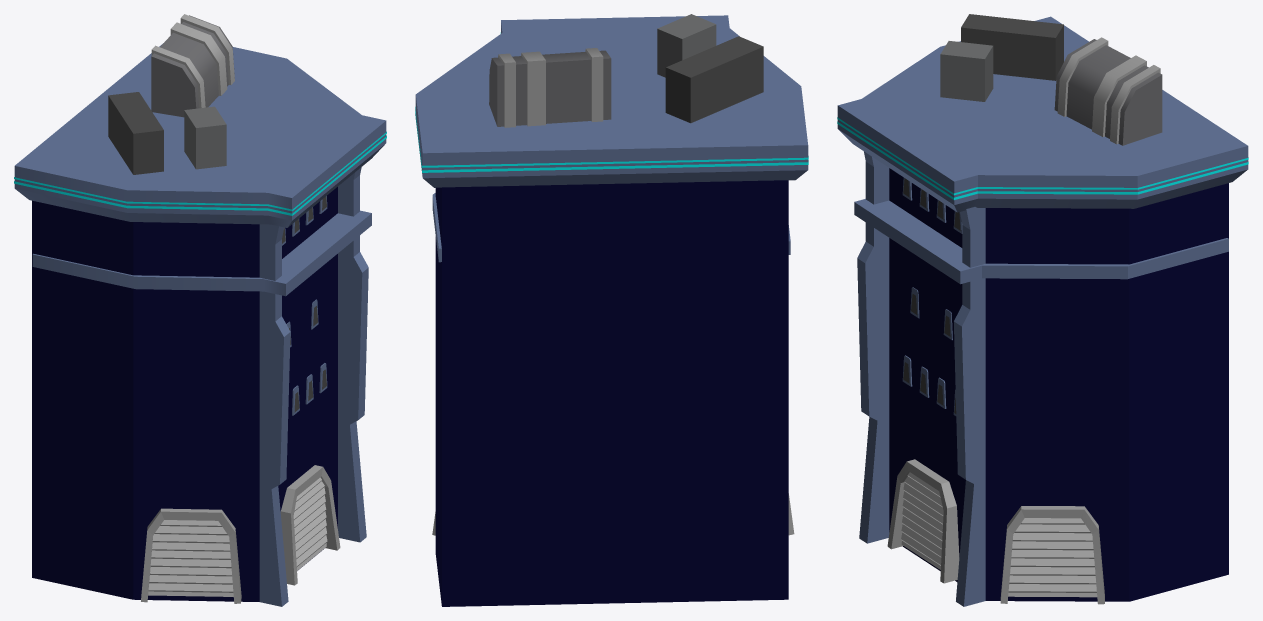
File: NorthEast_House_03.fbx
3 renders of one model, left to right at view 1: azimuth 30°, elevation 25°; view 2: azimuth 150°, elevation 25°; view 3: azimuth 270°, elevation 25°, orthographic. The views are drawn at different scales.
Visible parts, largest first — view 1: NorthEast_House_03; view 2: NorthEast_House_03; view 3: NorthEast_House_03.
Boxes of the visible parts, x1=… form: NorthEast_House_03: x1=14, y1=14, x2=386, y2=606; NorthEast_House_03: x1=415, y1=14, x2=808, y2=606; NorthEast_House_03: x1=837, y1=14, x2=1248, y2=606.
Size of the model in its own units: 33.66 by 46.87 by 35.38.
